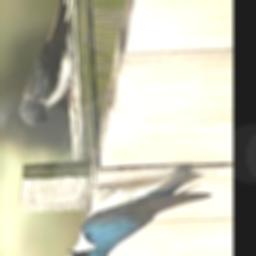Swallow: (65, 169, 211, 256)
